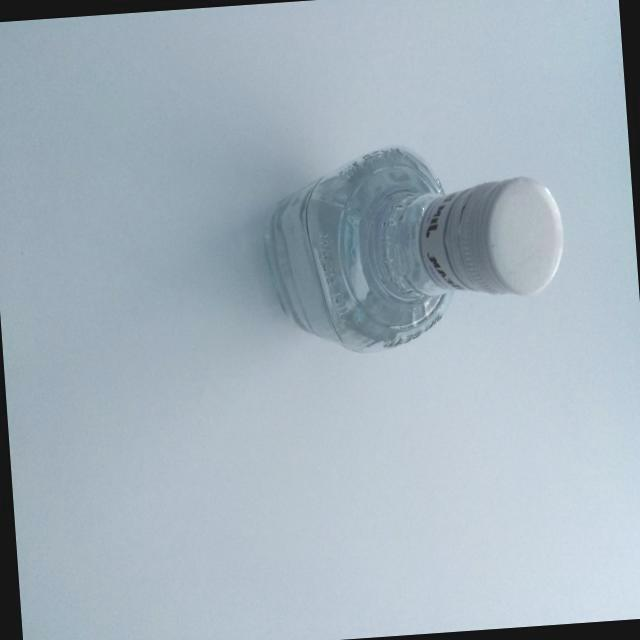glass: (242, 120, 581, 370)
